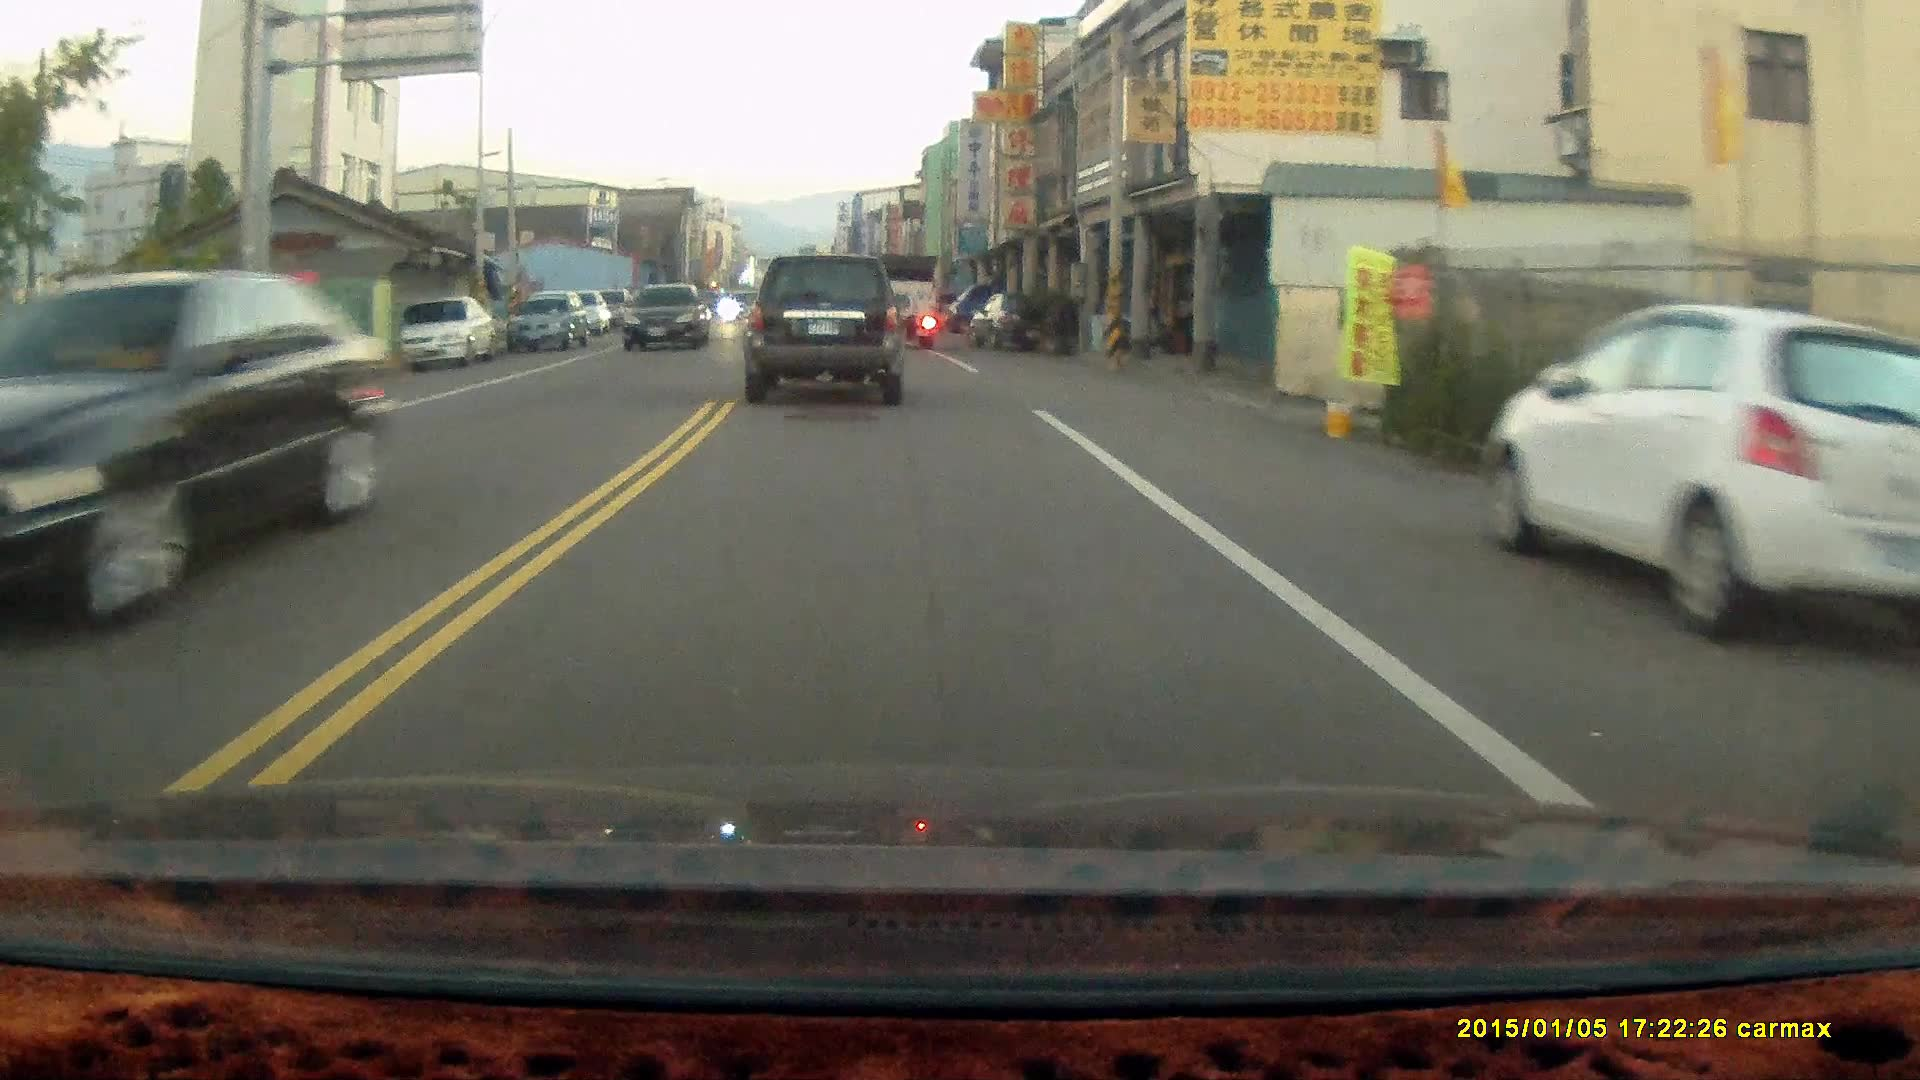vehicle: (1, 266, 401, 658), (1487, 305, 1920, 646), (745, 260, 913, 415), (861, 252, 943, 351), (394, 295, 496, 367), (624, 289, 715, 355), (504, 290, 589, 355)
